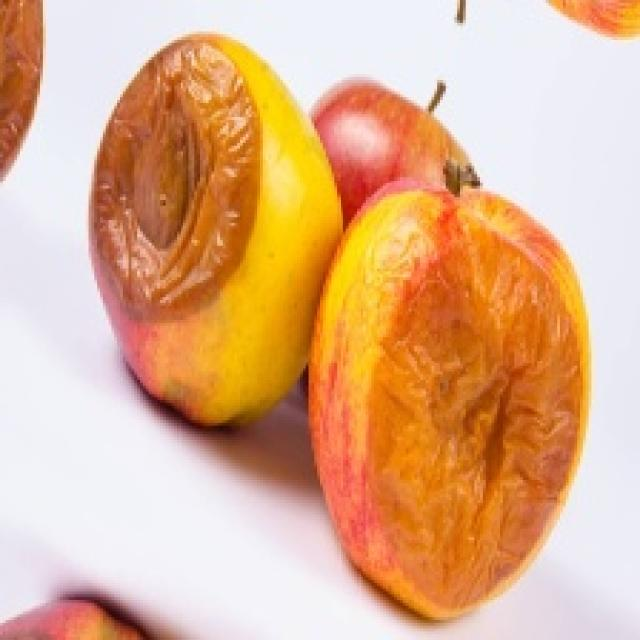rotten_apple: (321, 190, 588, 610), (90, 36, 309, 421)
